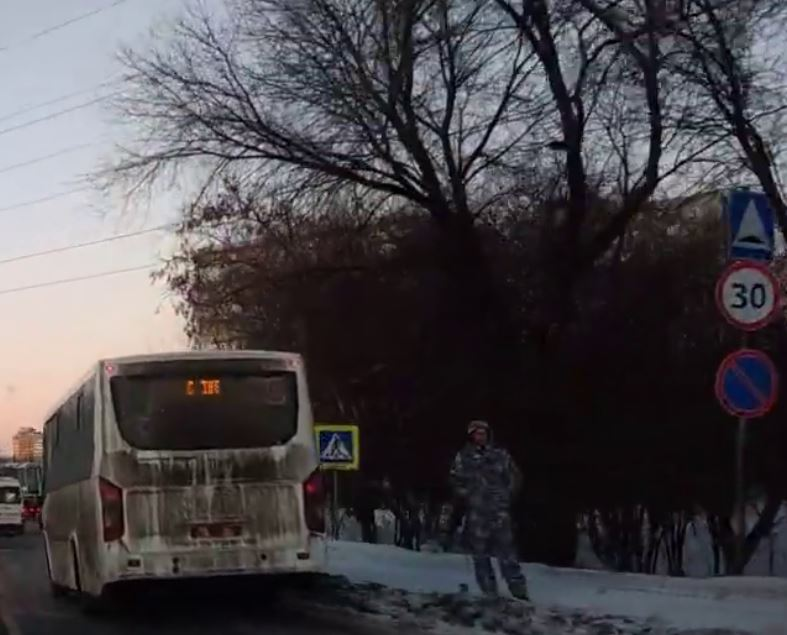30 Km Hiz Siniri: (710, 257, 784, 335)
